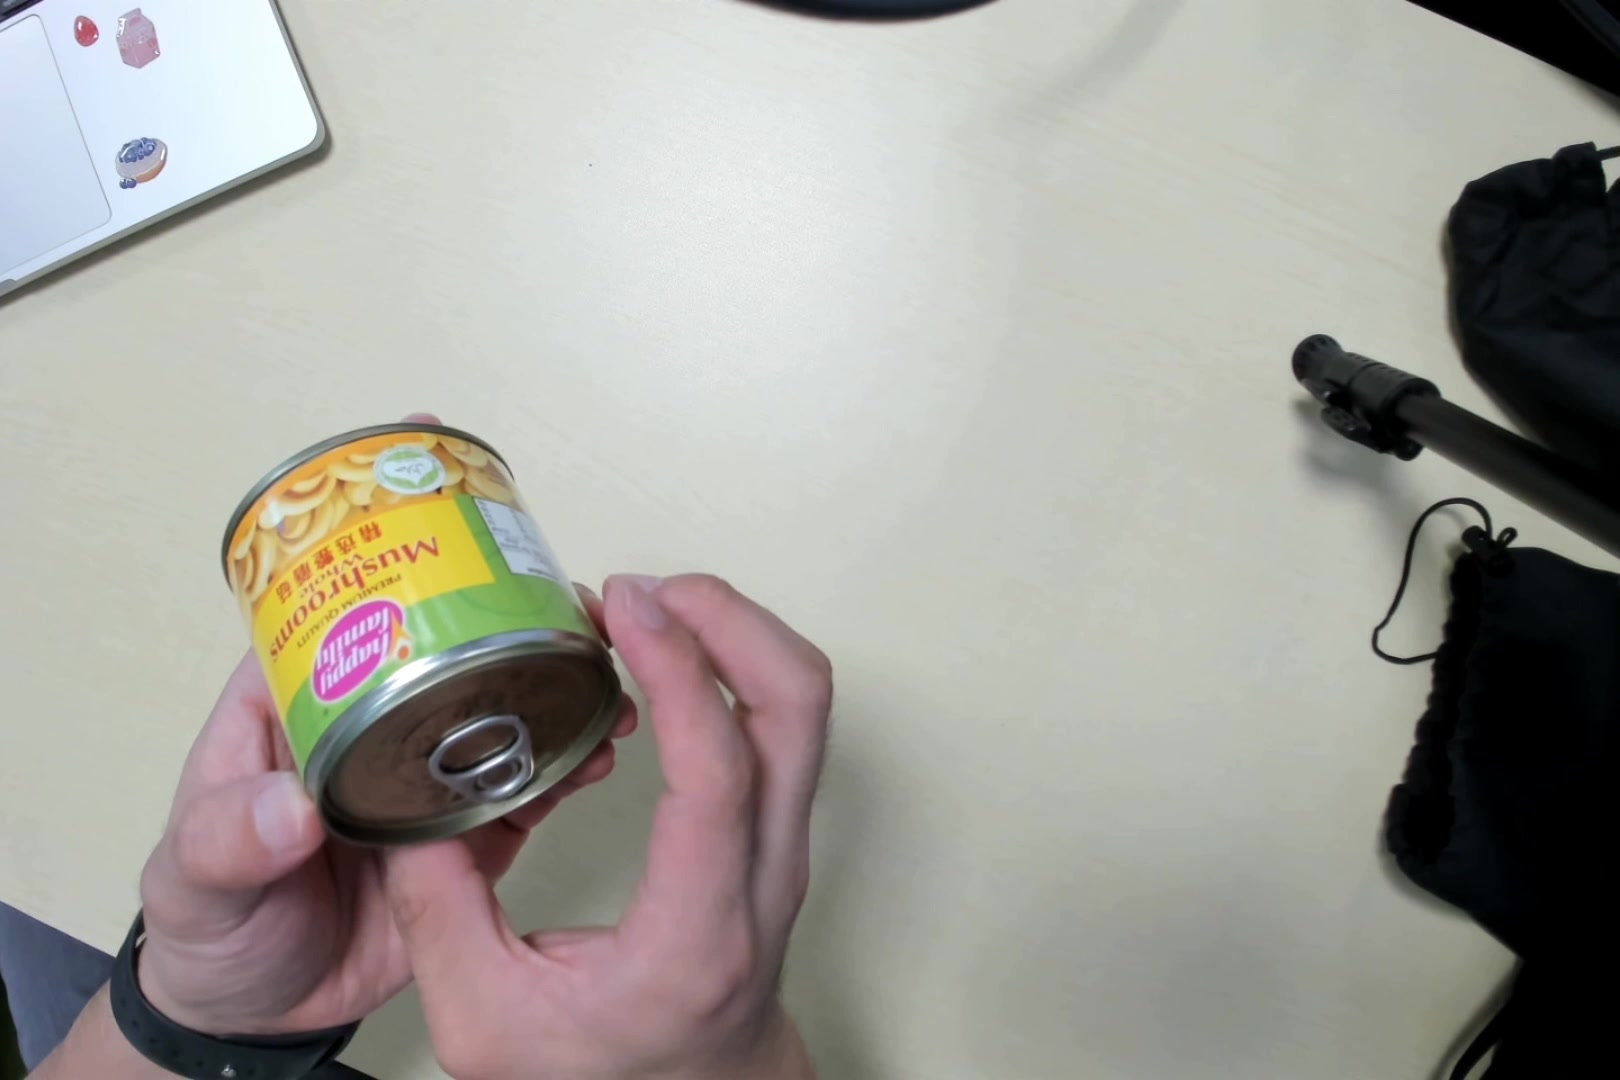CannedMashrooms_100-199g_Halal_NonHealthy: (233, 413, 622, 830)
